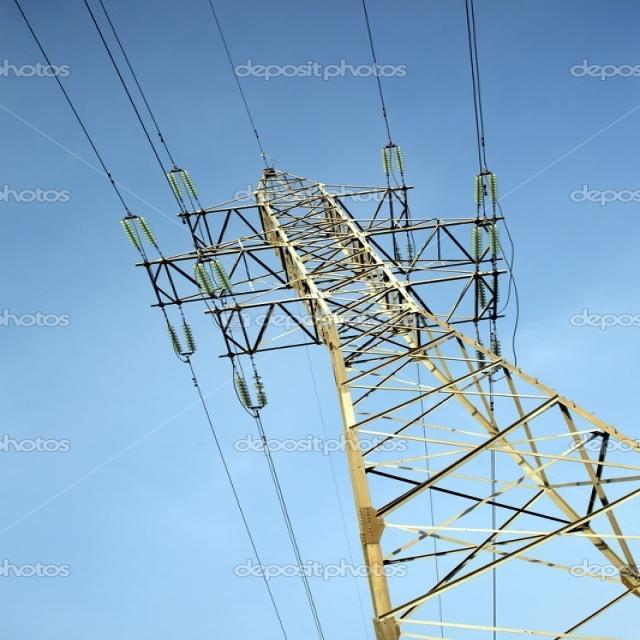non-critical vegetation: (144, 170, 630, 632)
